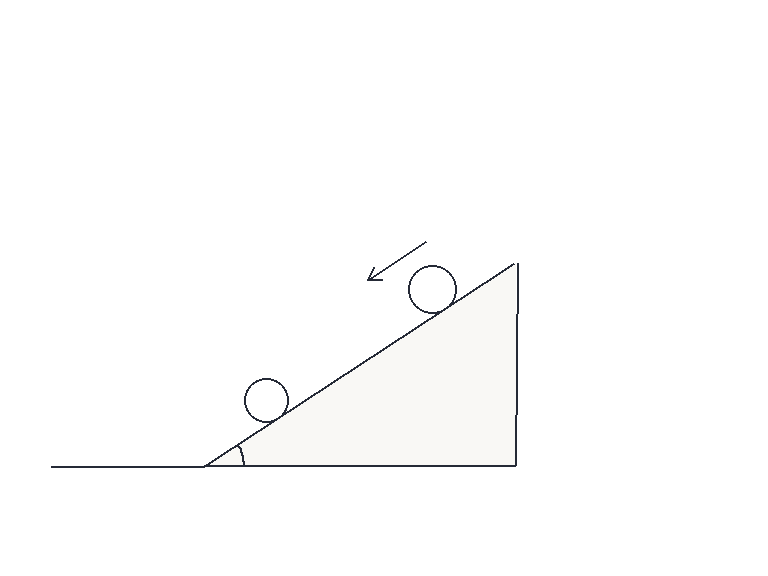ball: (406, 263, 458, 315), (242, 376, 290, 424)
ramp: (202, 261, 518, 468)
